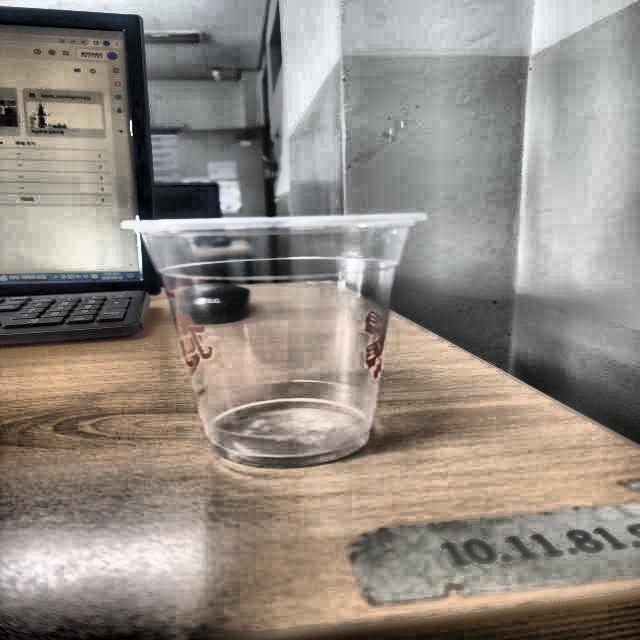plastic cup: (121, 214, 432, 466)
